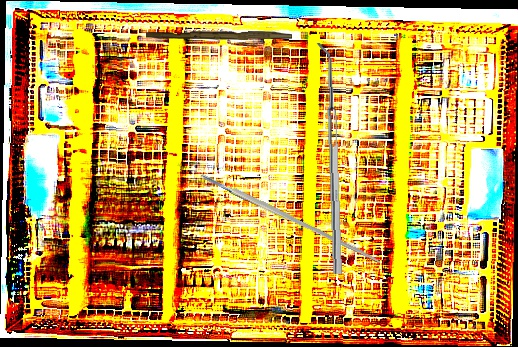Scalpel Handle: (199, 170, 382, 266), (145, 28, 293, 42)
Spatula Surgical: (315, 42, 343, 275)
